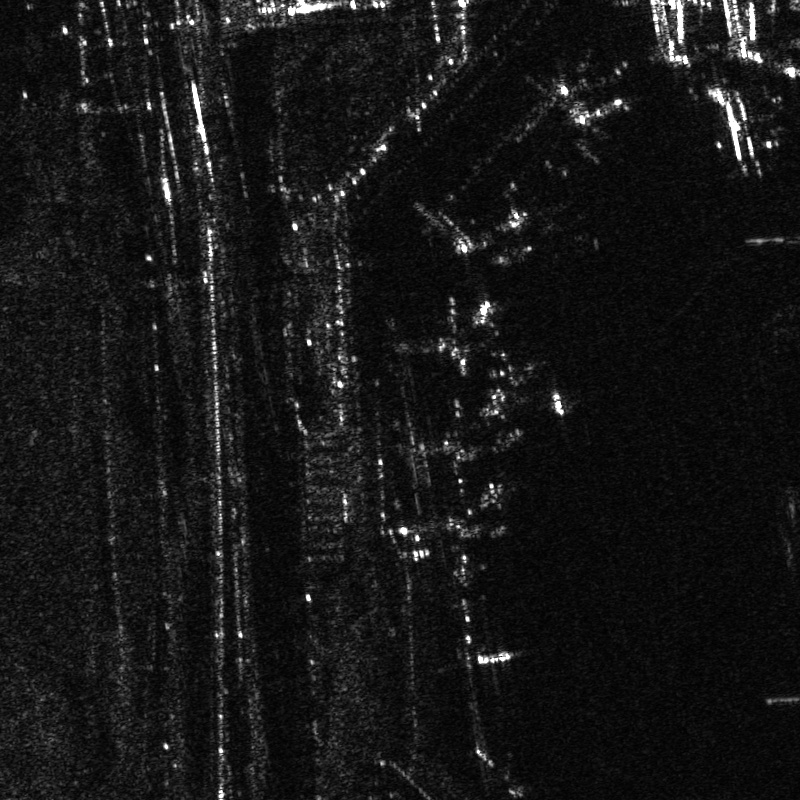Boeing737: (699, 70, 777, 176)
